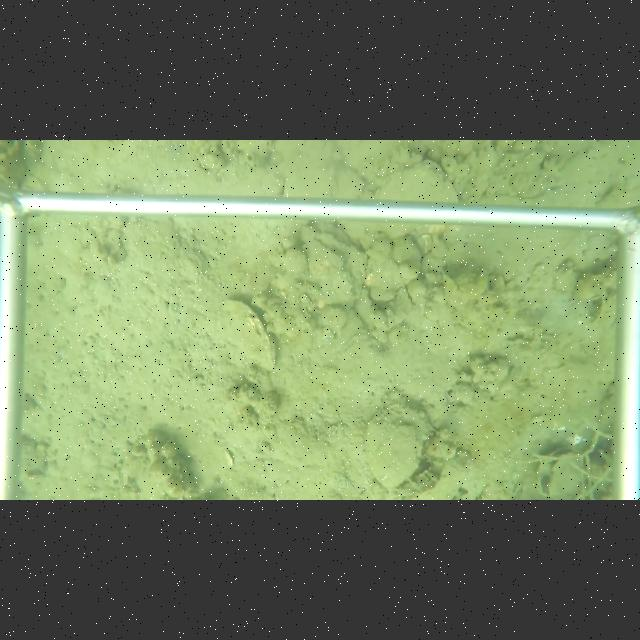Oyster-Closed: (365, 383, 439, 493), (214, 296, 281, 373), (373, 159, 464, 201), (281, 158, 368, 200), (366, 234, 421, 283), (303, 238, 344, 276), (367, 258, 402, 302), (318, 268, 356, 308), (383, 286, 414, 329), (441, 272, 467, 311), (589, 297, 609, 326)
Oyster-Open: (534, 444, 588, 497)
